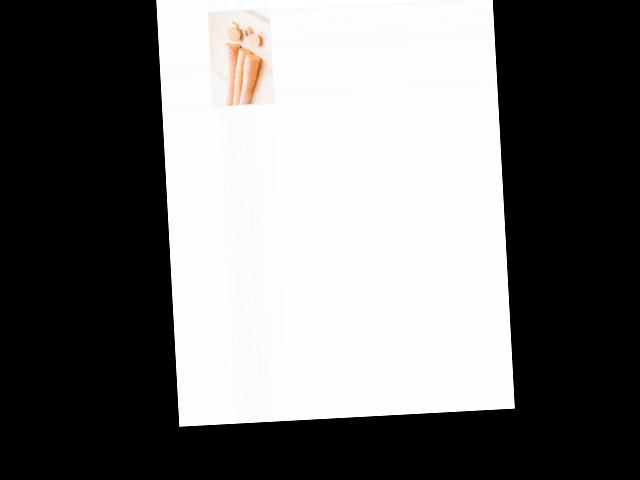carrot: (240, 47, 263, 106)
